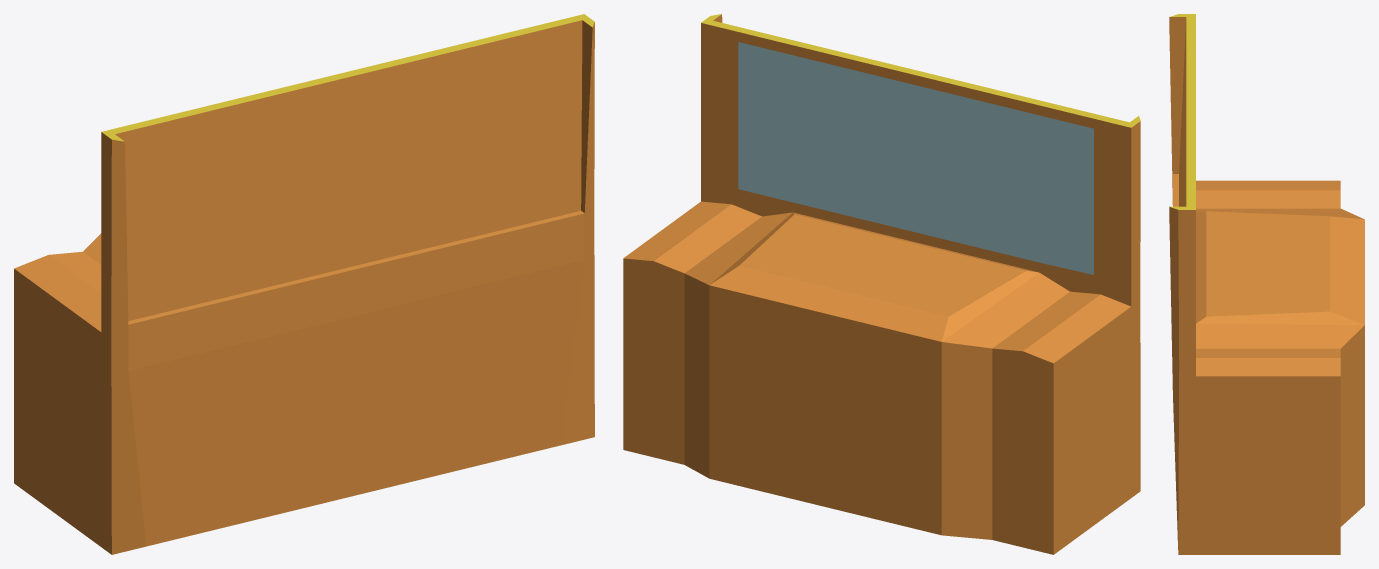
The model's file is front_of_the_bus.fbx.
3 renders of one model, left to right at view 1: azimuth 30°, elevation 25°; view 2: azimuth 150°, elevation 25°; view 3: azimuth 270°, elevation 25°, orthographic. The views are drawn at different scales.
Visible parts, largest first — view 1: Cube.051; view 2: Cube.051; view 3: Cube.051.
Boxes of the visible parts, x1,y1,x2,y2 form: Cube.051: (14, 14, 594, 554); Cube.051: (623, 14, 1140, 554); Cube.051: (1169, 14, 1364, 554).
Size of the model in its own units: 190 by 156 by 80.12.
